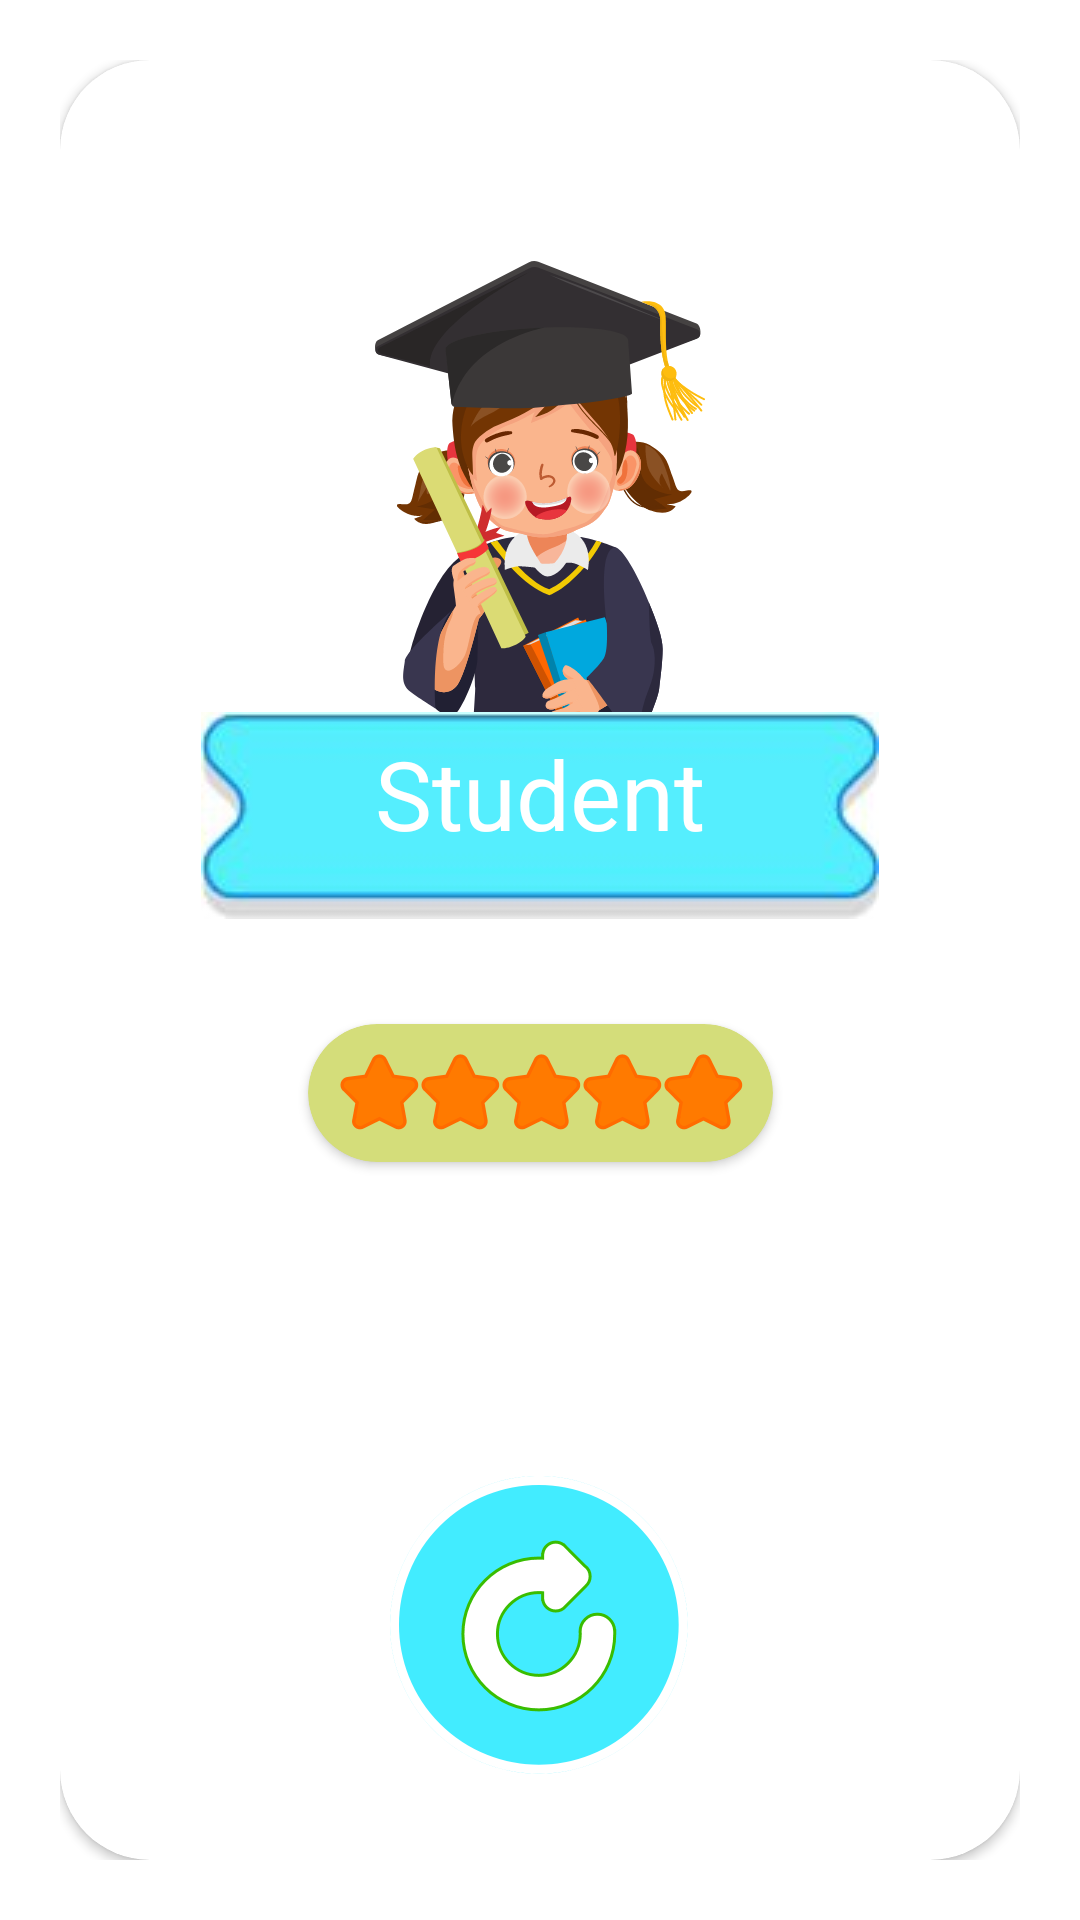

Icons on this 1080px x 1920px Android screen, each with the point to tap as (x,y):
treagain: (539,1626)
yulduzcha: (379,1092), (460,1092), (541,1092), (622,1092), (703,1092)
